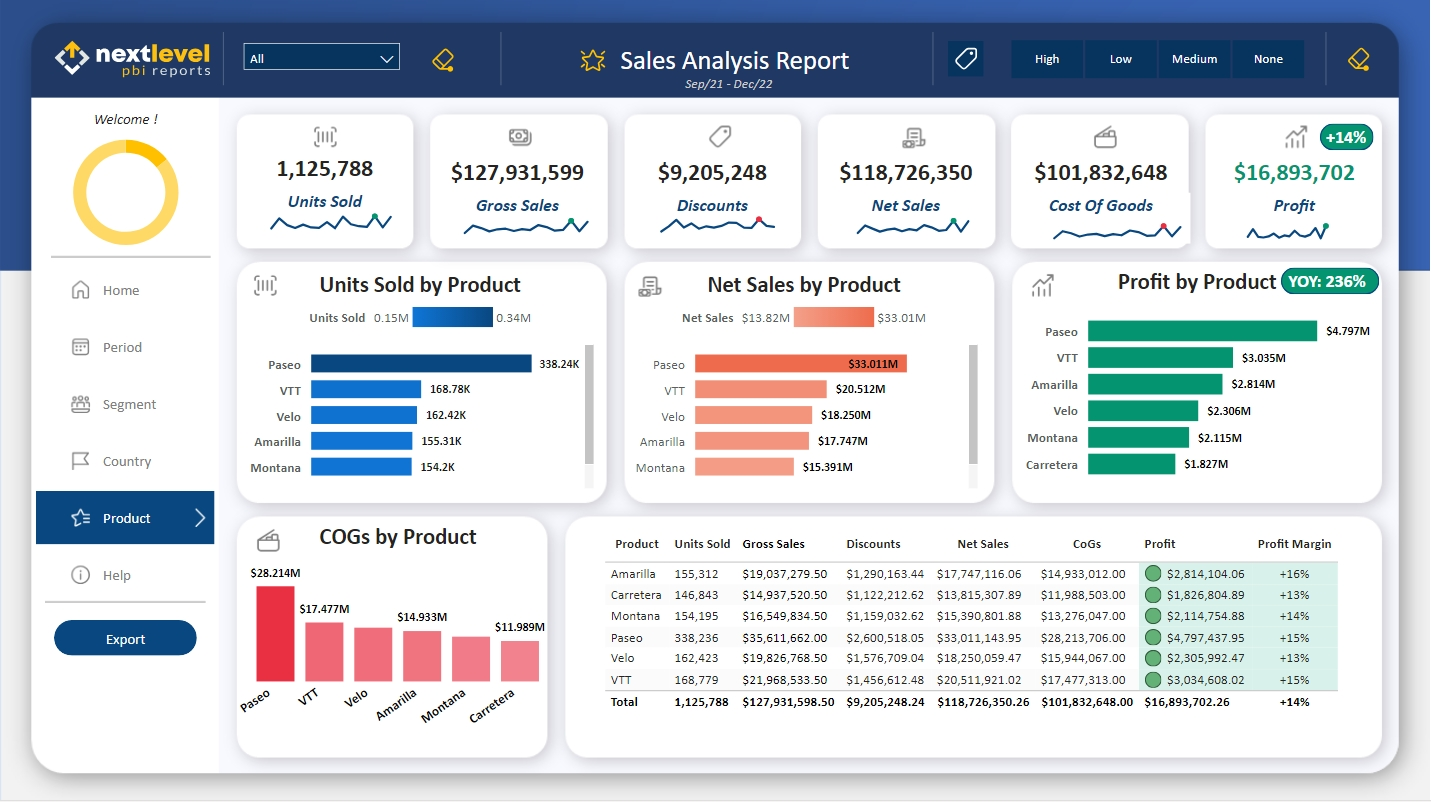

The dashboard page shown, as its layout file describes it:
{"tool":"powerbi","page":{"name":"Sales Analysis","canvas":[1280,720],"ordinal":1},"visuals":[{"type":"shape","title":"vertical line","box":[192,32,16,48],"z":0,"group":"g10"},{"type":"shape","title":"Profit margin Shape","box":[1182,114,48,24],"z":0,"group":"g7"},{"type":"shape","title":"line separate menu","box":[45,218,143,32],"z":0,"group":"g8"},{"type":"actionButton","title":"Units sold Button","box":[222,243,32,32],"z":0,"group":"g6"},{"type":"actionButton","title":"Net Sales Button","box":[567,243,32,32],"z":0,"group":"g4"},{"type":"actionButton","title":"Profit Button","box":[918,243,32,32],"z":0,"group":"g2"},{"type":"actionButton","title":"Period_active","box":[32,291,160,48],"z":0,"group":"g11"},{"type":"tableEx","fields":{"Values":["Dim_Date.Reporting period","Mesures.M_Units Sold","Mesures.M_Gross Sales","Mesures.M_Discounts","Mesures.M_Net Sales","Mesures.M_Cost Of Goods","Mesures.M_Profit","Mesures.M_Profit Margin Formatted"]},"box":[512,464,720,216],"z":0,"group":"g5"},{"type":"actionButton","title":"COGs Button","box":[224,472,32,32],"z":0,"group":"g1"},{"type":"actionButton","title":"Export","box":[48,560,128,32],"z":0,"group":"g3"},{"type":"slicer","title":"Manager Slicer","fields":{"Values":["DIM_MANAGERS.Manager Name"]},"box":[208,32,160,48],"z":1000,"group":"g9"},{"type":"shape","title":"vertical line","box":[440,32,16,48],"z":1000,"group":"g10"},{"type":"card","title":"Welcome_card","fields":{"Values":["Mesures.M_User Greeting"]},"box":[32,96,160,32],"z":1000,"group":"g8"},{"type":"card","title":"Profit margin Card","fields":{"Values":["Mesures.M_Profit Margin Formatted"]},"box":[1178,106,54,42],"z":1000,"group":"g7"},{"type":"lineChart","title":"Profit by Period","fields":{"Category":["Dim_Date.Reporting period"],"Y":["Mesures.M_Profit"]},"box":[912,243,320,200],"z":1000,"group":"g2"},{"type":"areaChart","title":"Units Sold by Period","fields":{"Category":["Dim_Date.Reporting period"],"Y":["Mesures.M_Units Sold"]},"box":[216,246,320,200],"z":1000,"group":"g6"},{"type":"lineChart","title":"Net Sales by Period","fields":{"Category":["Dim_Date.Reporting period"],"Y":["Mesures.M_Net Sales"]},"box":[560,246,320,200],"z":1000,"group":"g4"},{"type":"actionButton","title":"arrow Button","box":[160,291,32,48],"z":1000,"group":"g11"},{"type":"group","id":"g1","title":"CoGs Line chart","box":[200,472,304,200],"z":1000,"group":"g5"},{"type":"lineChart","title":"COGs by Period","fields":{"Category":["Dim_Date.Reporting period"],"Y":["Mesures.M_Cost Of Goods"]},"box":[200,472,304,200],"z":1000,"group":"g1"},{"type":"shape","title":"Bottom_line","box":[40,528,144,32],"z":1000,"group":"g3"},{"type":"shape","title":"vertical line","box":[832,32,8,48],"z":2000,"group":"g10"},{"type":"actionButton","title":" Clear Button  Manager","box":[378,44,36,25],"z":2000,"group":"g9"},{"type":"actionButton","title":"Profit Button","box":[1144,110,32,32],"z":2000,"group":"g7"},{"type":"donutChart","title":"Donut chart","fields":{"Y":["Mesures.M_Profit Margin","Mesures.M_100% Minus Profit Margin"]},"box":[48,112,128,128],"z":2000,"group":"g8"},{"type":"group","id":"g2","title":"Profit line chart","box":[912,235,321,208],"z":2000,"group":"g5"},{"type":"shape","title":"Profit margin Shape","box":[1145,243,88,24],"z":2000,"group":"g2"},{"type":"actionButton","title":"Help","box":[32,495,160,48],"z":2000,"group":"g3"},{"type":"shape","title":"vertical line","box":[1184,32,8,48],"z":3000,"group":"g10"},{"type":"actionButton","title":"Star Logo","box":[500,37,63,40],"z":3000,"group":"g9"},{"type":"pivotTable","title":"Profit Matrix","fields":{"Values":["SparklineData(Mesures.M_Profit_[Dim_Date.yearMonth])"]},"box":[1088,170,135,58],"z":3000,"group":"g7"},{"type":"card","title":"Profit margin Card","fields":{"Values":["Mesures.M_Profit YOY% Formatted"]},"box":[1145,235,87,42],"z":3000,"group":"g2"},{"type":"group","id":"g3","title":"Menu bar","box":[32,240,160,352],"z":3000,"group":"g8"},{"type":"group","id":"g4","title":"Net sales line chart","box":[560,243,320,203],"z":3000,"group":"g5"},{"type":"textbox","title":"Title","box":[550,37,235,41],"z":4000,"group":"g9"},{"type":"card","title":"Profit Card","fields":{"Values":["Mesures.M_Profit"]},"box":[1086,119,144,96],"z":4000,"group":"g7"},{"type":"group","id":"g5","title":"Period","box":[200,235,1033,445],"z":4000},{"type":"group","id":"g6","title":"Units sold line chart","box":[216,243,320,203],"z":4000,"group":"g5"},{"type":"actionButton","title":"Product","box":[32,444,160,48],"z":4000,"group":"g3"},{"type":"card","title":"Selected_date Card ","fields":{"Values":["Mesures.M_Date Selection"]},"box":[592,64,120,24],"z":5000,"group":"g9"},{"type":"group","id":"g7","title":"Upper Cards - Static","box":[213,106,1019,132],"z":5000},{"type":"actionButton","title":"COGs Button","box":[973.4,110,32,32],"z":5000,"group":"g7"},{"type":"actionButton","title":"Dynamic Filter_button","box":[848,40,32,32],"z":6000,"group":"g9"},{"type":"group","id":"g8","title":"Navigation","box":[32,96,160,496],"z":6000},{"type":"pivotTable","title":"COGs Matrix","fields":{"Values":["SparklineData(Mesures.M_Cost Of Goods_[Dim_Date.yearMonth])"]},"box":[914.8,170,157,68],"z":6000,"group":"g7"},{"type":"actionButton","title":"Country","box":[32,393,160,48],"z":6000,"group":"g3"},{"type":"group","id":"g9","title":"Header","box":[192,32,1048,56],"z":7000},{"type":"slicer","title":"Slicer for Discount Band","fields":{"Values":["FACT_SALES.Discount Band"]},"box":[880,32,312,48],"z":7000,"group":"g9"},{"type":"card","title":"COGs Card","fields":{"Values":["Mesures.M_Cost Of Goods"]},"box":[912.2,119,144,96],"z":7000,"group":"g7"},{"type":"actionButton","title":"Clear Button","box":[1192,40,48,32],"z":8000,"group":"g9"},{"type":"actionButton","title":"Net Sales Button","box":[802.8,110,32,32],"z":8000,"group":"g7"},{"type":"actionButton","title":"Segment","box":[32,342,160,48],"z":8000,"group":"g3"},{"type":"group","id":"g10","title":"Vertical lines","box":[192,32,1000,48],"z":9000,"group":"g9"},{"type":"pivotTable","title":"Net sales Matrix","fields":{"Values":["SparklineData(Mesures.M_Net Sales_[Dim_Date.yearMonth])"]},"box":[738.6,164,170,64],"z":9000,"group":"g7"},{"type":"group","id":"g11","title":"Period_active","box":[32,291,160,48],"z":9000,"group":"g3"},{"type":"card","title":"Net_sales Card","fields":{"Values":["Mesures.M_Net Sales"]},"box":[738.4,119,144,96],"z":10000,"group":"g7"},{"type":"actionButton","title":"Discounts Button","box":[624.2,110,40,32],"z":11000,"group":"g7"},{"type":"actionButton","title":"Home","box":[32,240,160,48],"z":11000,"group":"g3"},{"type":"pivotTable","title":"Discounts Matrix","fields":{"Values":["SparklineData(Mesures.M_Discounts_[Dim_Date.yearMonth])"]},"box":[562.4,162,170,66],"z":12000,"group":"g7"},{"type":"card","title":"Discounts Card","fields":{"Values":["Mesures.M_Discounts"]},"box":[564.6,119,144,96],"z":13000,"group":"g7"},{"type":"actionButton","title":"Gross sales Button","box":[445.6,110,40,32],"z":14000,"group":"g7"},{"type":"pivotTable","title":"Gross_sales Matrix","fields":{"Values":["SparklineData(Mesures.M_Gross Sales_[Dim_Date.yearMonth])"]},"box":[386.2,164,170,64],"z":15000,"group":"g7"},{"type":"card","title":"Gross_sales Card","fields":{"Values":["Mesures.M_Gross Sales"]},"box":[390.8,119,144,96],"z":16000,"group":"g7"},{"type":"actionButton","title":"Units sold Button","box":[275,110,32,32],"z":17000,"group":"g7"},{"type":"pivotTable","title":"Unit_sold Matrix","fields":{"Values":["SparklineData(Mesures.M_Units Sold_[Dim_Date.yearMonth])"]},"box":[213,160,170,68],"z":18000,"group":"g7"},{"type":"card","title":"Unit_sold Card","fields":{"Values":["Mesures.M_Units Sold"]},"box":[218,119,143,89],"z":19000,"group":"g7"}]}

Visuals, with their boxes in screenshot pixels (x1, y1, x2, y2), scaled from the page's 1280x720 canvas onto the 1431x802 screenshot:
"vertical line" shape: bbox=[215, 36, 233, 89]
"Profit margin Shape" shape: bbox=[1321, 127, 1375, 154]
"line separate menu" shape: bbox=[50, 243, 210, 278]
"Units sold Button" actionButton: bbox=[248, 271, 284, 306]
"Net Sales Button" actionButton: bbox=[634, 271, 670, 306]
"Profit Button" actionButton: bbox=[1026, 271, 1062, 306]
"Period_active" actionButton: bbox=[36, 324, 215, 378]
tableEx - Dim_Date.Reporting period x Mesures.M_Units Sold: bbox=[572, 517, 1377, 757]
"COGs Button" actionButton: bbox=[250, 526, 286, 561]
"Export" actionButton: bbox=[54, 624, 197, 659]
"Manager Slicer" slicer: bbox=[233, 36, 411, 89]
"vertical line" shape: bbox=[492, 36, 510, 89]
"Welcome_card" card: bbox=[36, 107, 215, 143]
"Profit margin Card" card: bbox=[1317, 118, 1377, 165]
"Profit by Period" lineChart: bbox=[1020, 271, 1377, 493]
"Units Sold by Period" areaChart: bbox=[241, 274, 599, 497]
"Net Sales by Period" lineChart: bbox=[626, 274, 984, 497]
"arrow Button" actionButton: bbox=[179, 324, 215, 378]
"CoGs Line chart" group: bbox=[224, 526, 563, 749]
"COGs by Period" lineChart: bbox=[224, 526, 563, 749]
"Bottom_line" shape: bbox=[45, 588, 206, 624]
"vertical line" shape: bbox=[930, 36, 939, 89]
" Clear Button  Manager" actionButton: bbox=[423, 49, 463, 77]
"Profit Button" actionButton: bbox=[1279, 123, 1315, 158]
"Donut chart" donutChart: bbox=[54, 125, 197, 267]
"Profit line chart" group: bbox=[1020, 262, 1378, 493]
"Profit margin Shape" shape: bbox=[1280, 271, 1378, 297]
"Help" actionButton: bbox=[36, 551, 215, 605]
"vertical line" shape: bbox=[1324, 36, 1333, 89]
"Star Logo" actionButton: bbox=[559, 41, 629, 86]
"Profit Matrix" pivotTable: bbox=[1216, 189, 1367, 254]
"Profit margin Card" card: bbox=[1280, 262, 1377, 309]
"Menu bar" group: bbox=[36, 267, 215, 659]
"Net sales line chart" group: bbox=[626, 271, 984, 497]
"Title" textbox: bbox=[615, 41, 878, 87]
"Profit Card" card: bbox=[1214, 133, 1375, 239]
"Period" group: bbox=[224, 262, 1378, 757]
"Units sold line chart" group: bbox=[241, 271, 599, 497]
"Product" actionButton: bbox=[36, 495, 215, 548]
"Selected_date Card " card: bbox=[662, 71, 796, 98]
"Upper Cards - Static" group: bbox=[238, 118, 1377, 265]
"COGs Button" actionButton: bbox=[1088, 123, 1124, 158]
"Dynamic Filter_button" actionButton: bbox=[948, 45, 984, 80]
"Navigation" group: bbox=[36, 107, 215, 659]
"COGs Matrix" pivotTable: bbox=[1023, 189, 1198, 265]
"Country" actionButton: bbox=[36, 438, 215, 491]
"Header" group: bbox=[215, 36, 1386, 98]
"Slicer for Discount Band" slicer: bbox=[984, 36, 1333, 89]
"COGs Card" card: bbox=[1020, 133, 1181, 239]
"Clear Button" actionButton: bbox=[1333, 45, 1386, 80]
"Net Sales Button" actionButton: bbox=[898, 123, 933, 158]
"Segment" actionButton: bbox=[36, 381, 215, 434]
"Vertical lines" group: bbox=[215, 36, 1333, 89]
"Net sales Matrix" pivotTable: bbox=[826, 183, 1016, 254]
"Period_active" group: bbox=[36, 324, 215, 378]
"Net_sales Card" card: bbox=[826, 133, 986, 239]
"Discounts Button" actionButton: bbox=[698, 123, 743, 158]
"Home" actionButton: bbox=[36, 267, 215, 321]
"Discounts Matrix" pivotTable: bbox=[629, 180, 819, 254]
"Discounts Card" card: bbox=[631, 133, 792, 239]
"Gross sales Button" actionButton: bbox=[498, 123, 543, 158]
"Gross_sales Matrix" pivotTable: bbox=[432, 183, 622, 254]
"Gross_sales Card" card: bbox=[437, 133, 598, 239]
"Units sold Button" actionButton: bbox=[307, 123, 343, 158]
"Unit_sold Matrix" pivotTable: bbox=[238, 178, 428, 254]
"Unit_sold Card" card: bbox=[244, 133, 404, 232]
